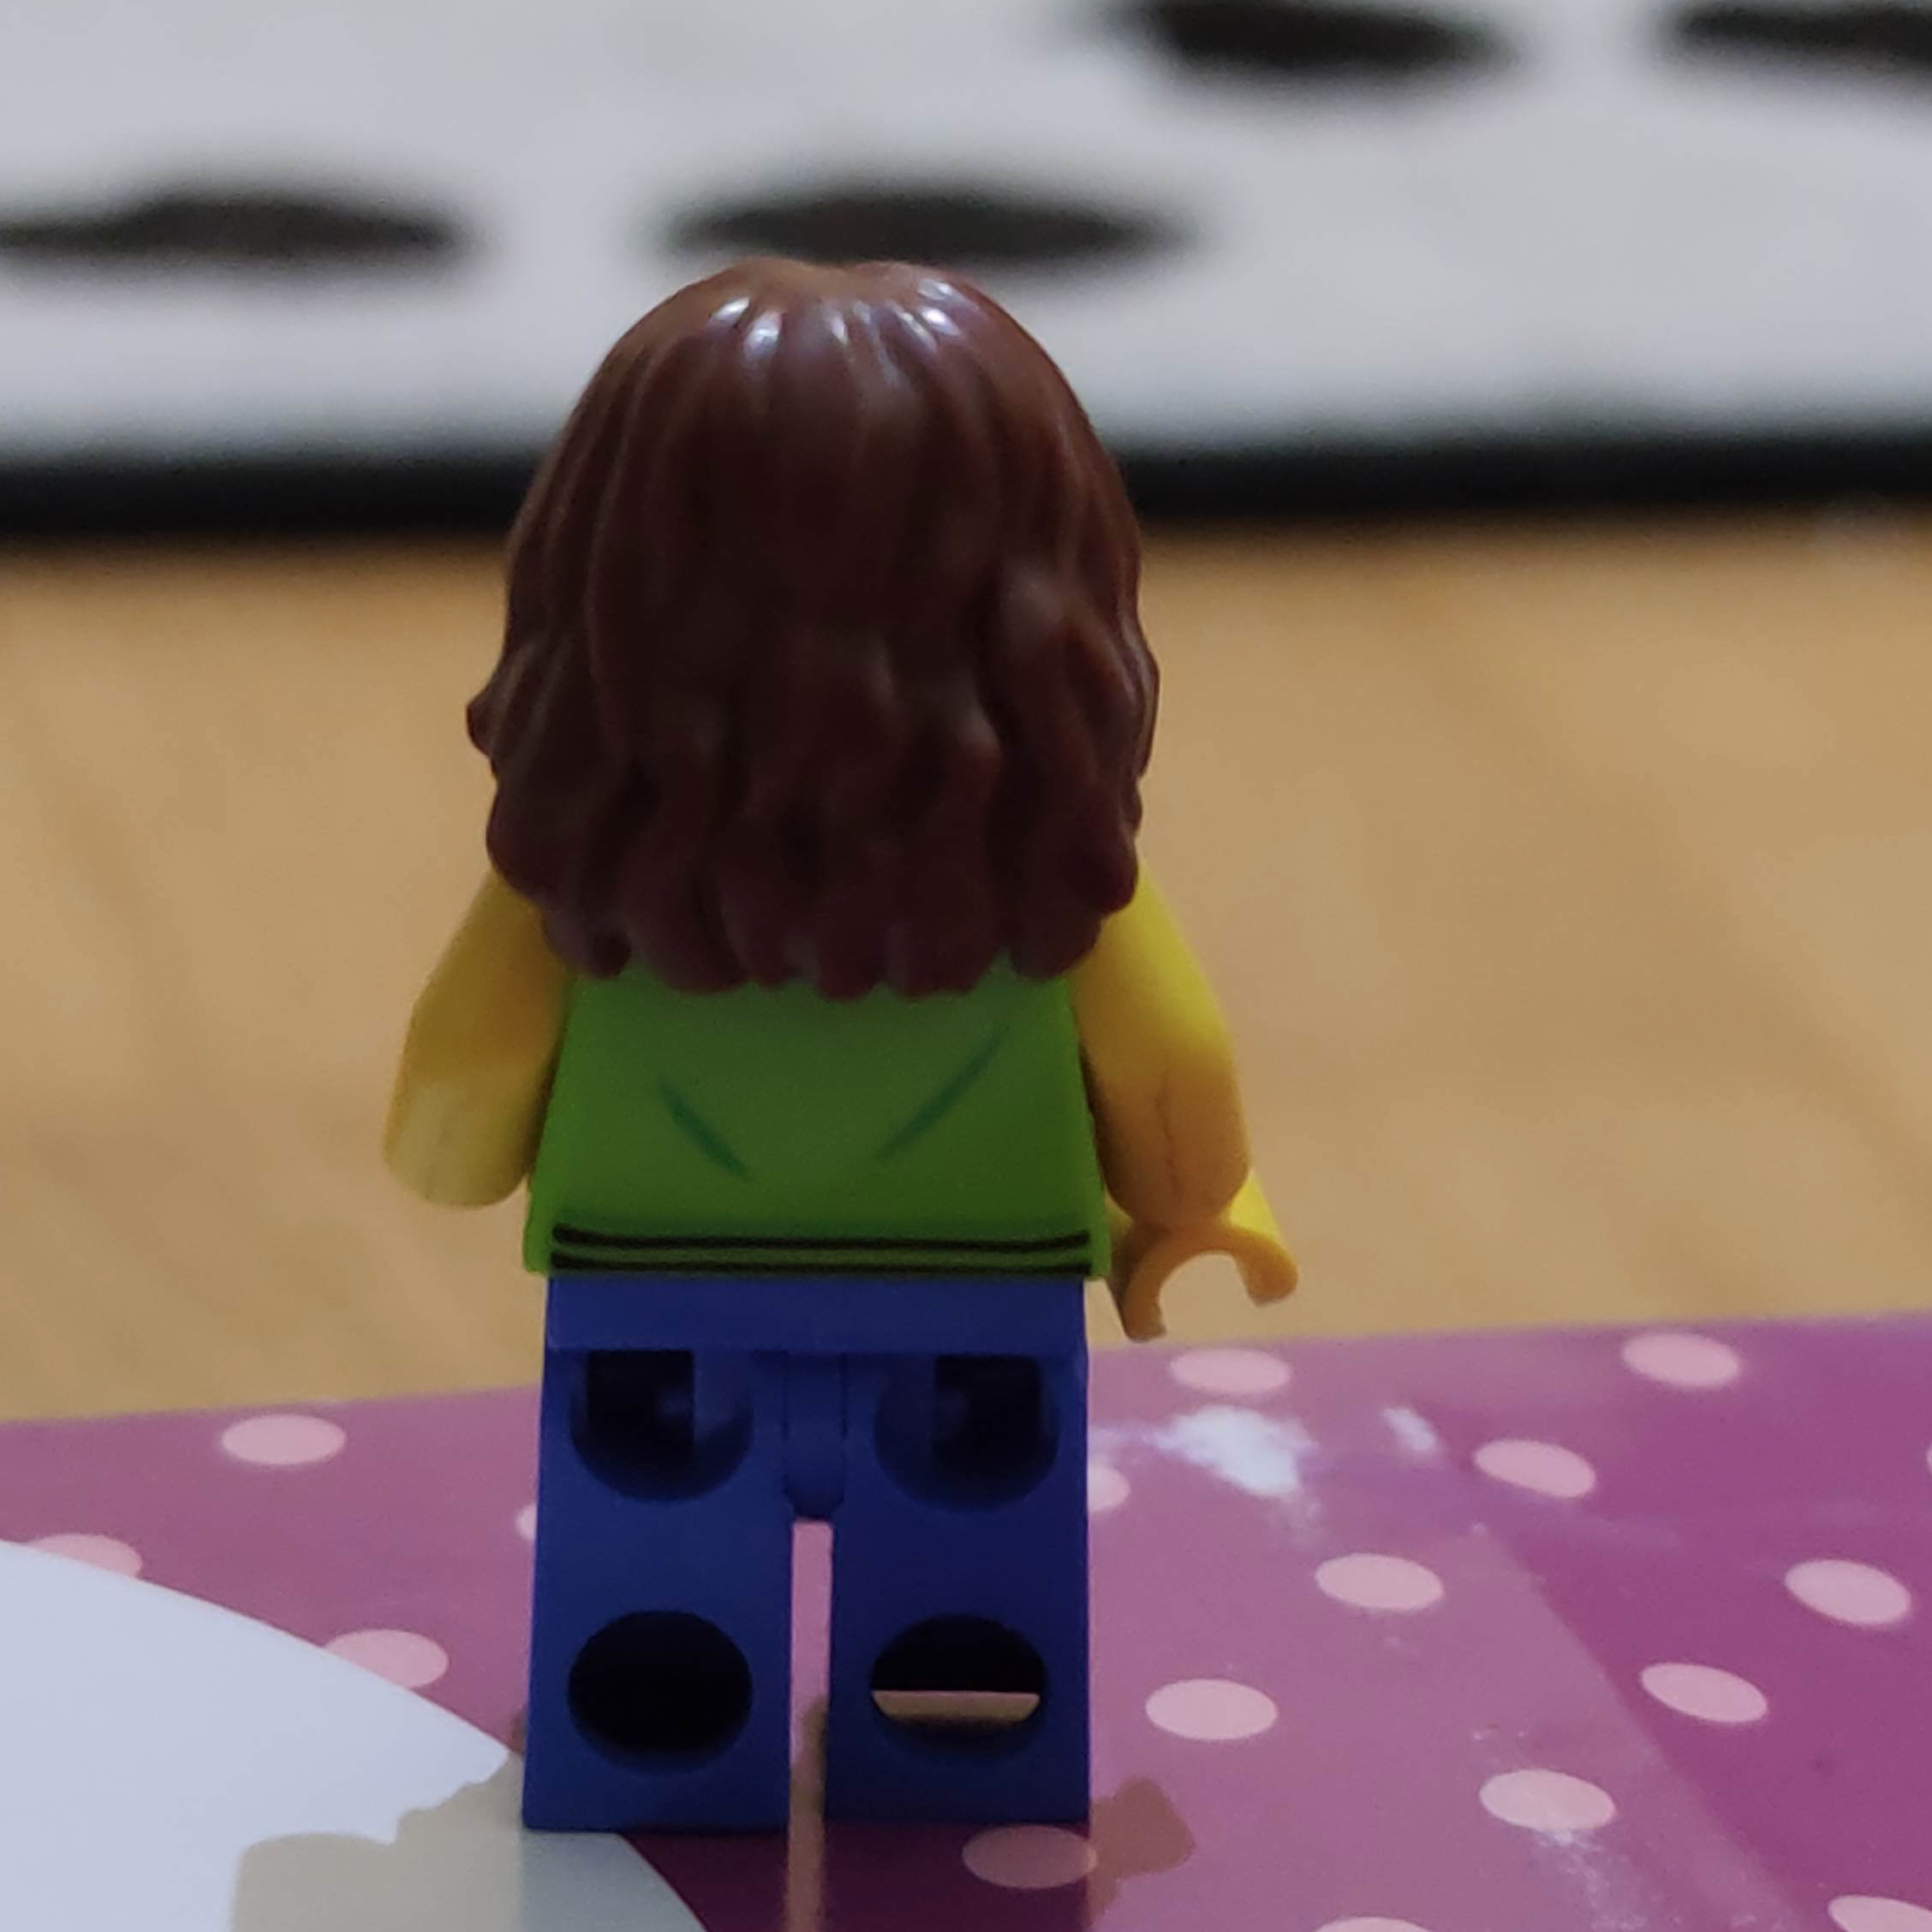lego: (380, 258, 1292, 1835)
